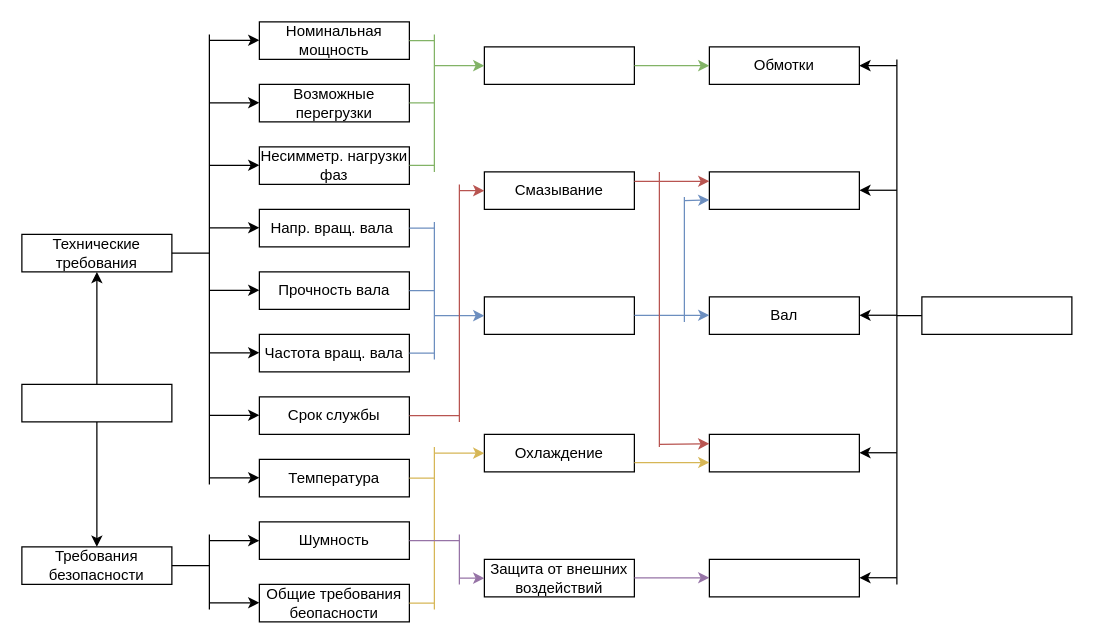
The diagram is 1094 pixels wide and 644 high, and some of its shapes have lost their labels. The shapes that lost their labels are listed below. From the top down, each one's box as (x1, y1, x2, y2) in pixels, then its label:
(483, 46, 634, 84): Взаимодействие ротора и статора
(708, 171, 859, 209): Подшипниковые узлы
(483, 296, 634, 334): Вращение вала
(921, 296, 1072, 334): Структура генератора
(21, 383, 172, 422): Требования
(708, 433, 859, 472): Охлаждающе-смазочная система
(708, 558, 859, 597): Корпус
